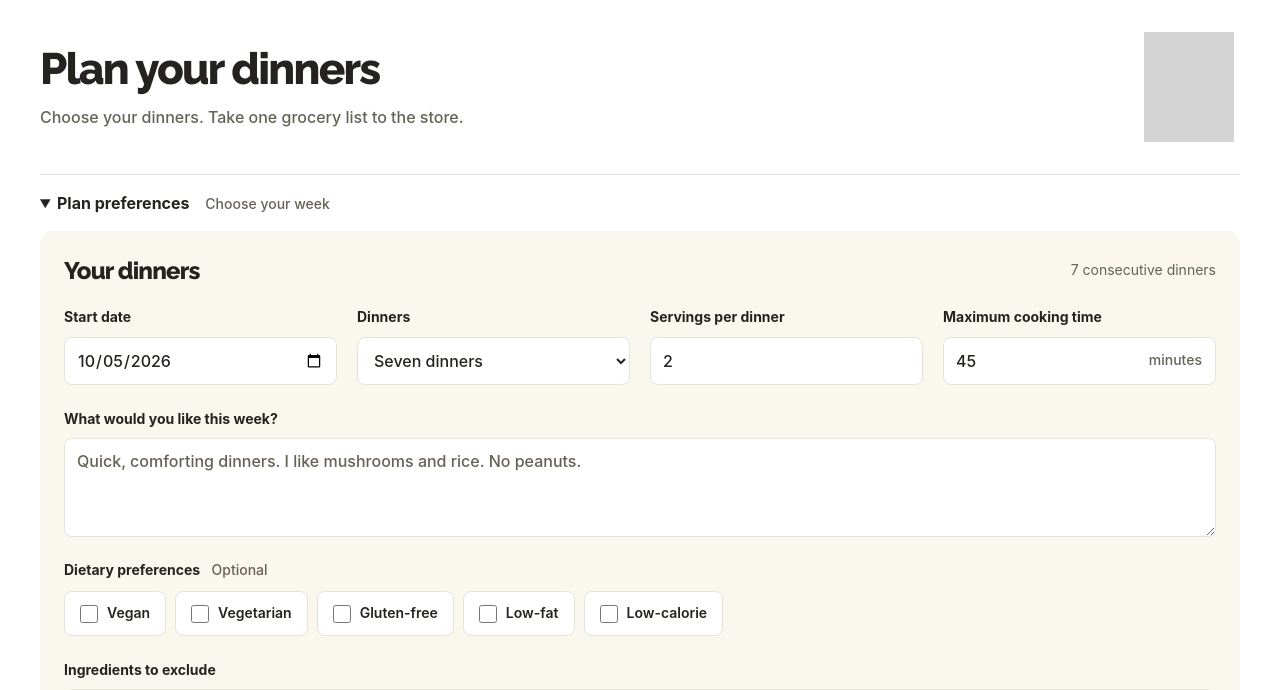
Test: actual MealPlanner page smoke › renders the real empty-state icon and generated plan for guest
Expected: the heading "Plan your dinners" is shown, [40,43,380,94]
Select "One dinner" in the dropdown labelled "Dinners" at (494, 361), box [357,337,630,385]
(page scrolled)
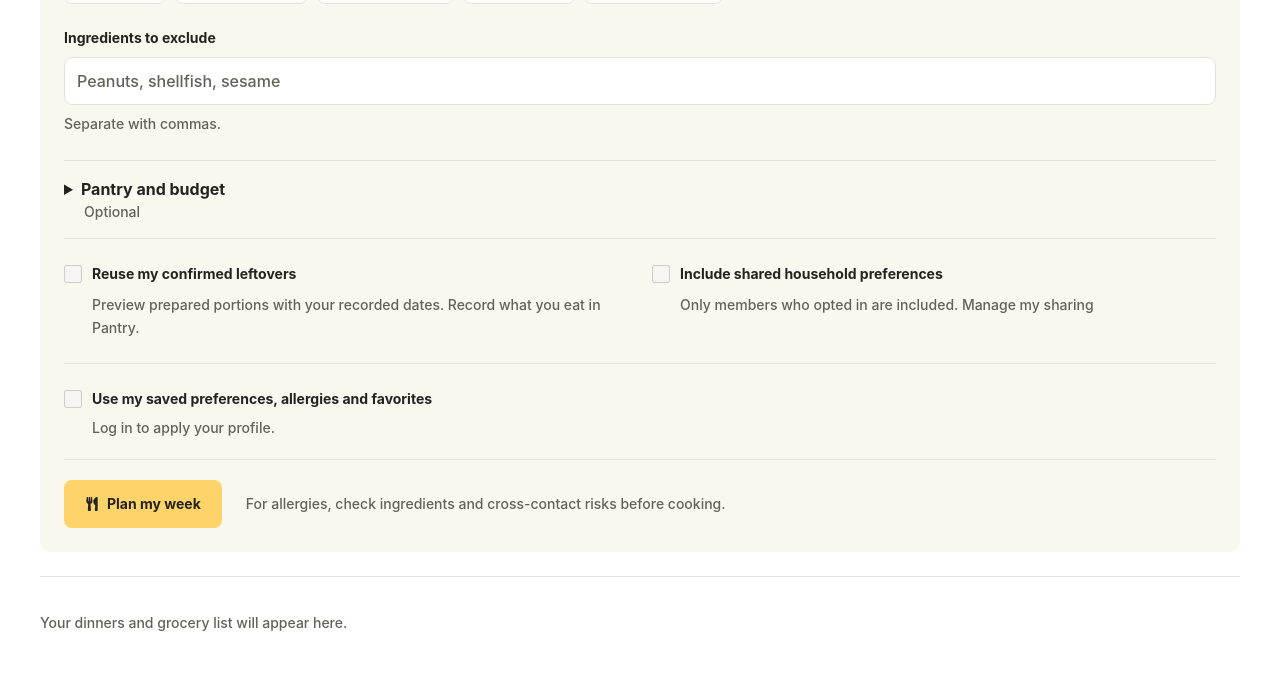
Click the button "Plan my week".
click(143, 504)  # box [64,480,222,528]
(page scrolled)
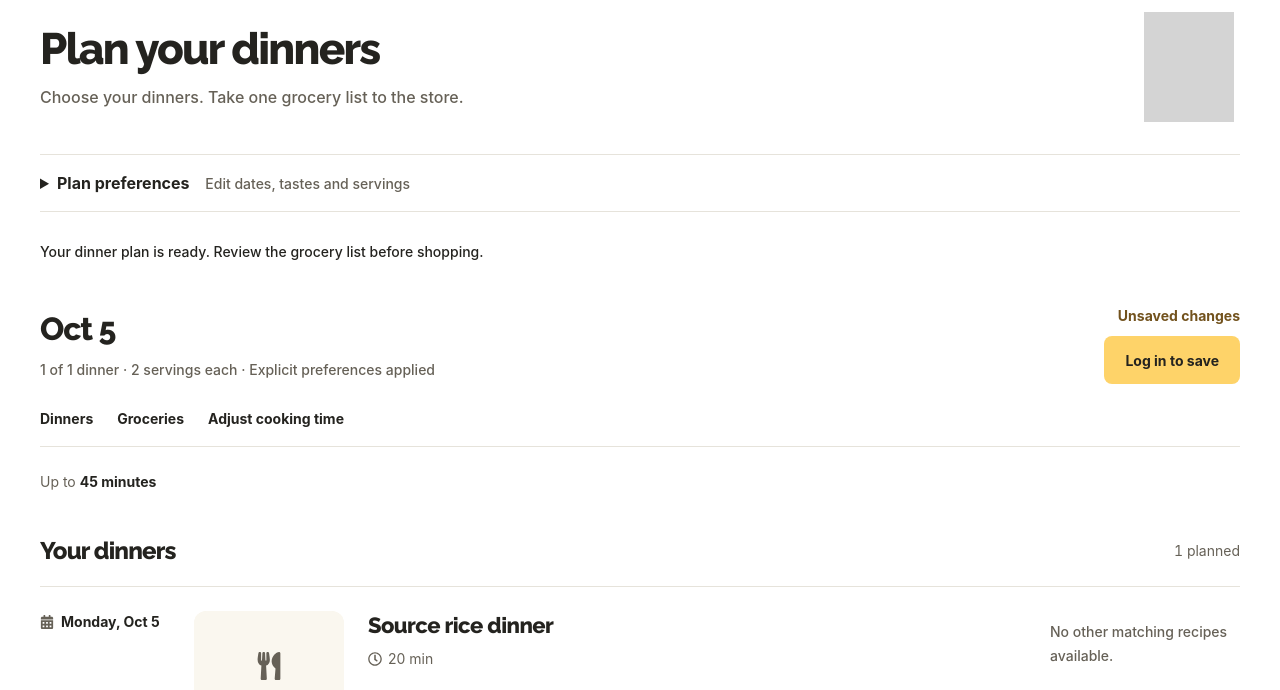
Result: the link "Source rice dinner" is shown at [368,612,553,638]
Result: the link "Log in to save" is shown at [1104,336,1240,384]
